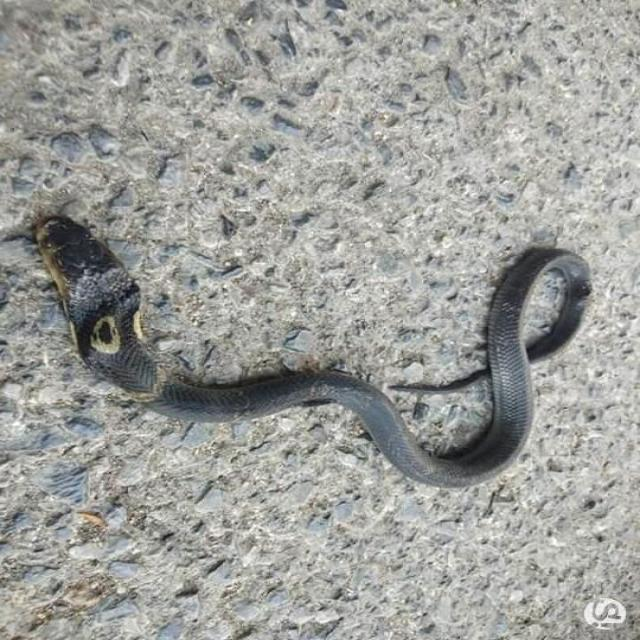Venomous: (34, 222, 159, 367)
